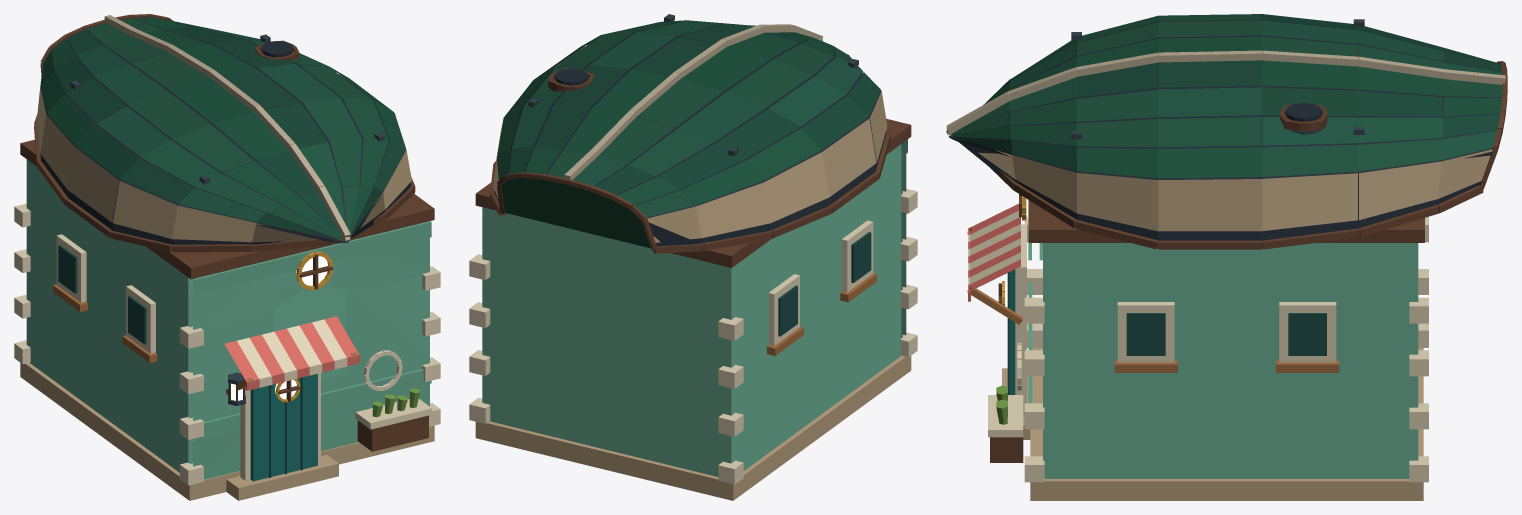
File: net-loft-medium-mint.glb
3 renders of one model, left to right at view 1: azimuth 30°, elevation 25°; view 2: azimuth 150°, elevation 25°; view 3: azimuth 270°, elevation 25°, orthographic. The views are drawn at different scales.
Parts seen in each view (by area): view 1: net-loft-medium-mint; view 2: net-loft-medium-mint; view 3: net-loft-medium-mint.
Boxes of the visible parts, x1,y1,x2,y2 form: net-loft-medium-mint: (14,14,440,500); net-loft-medium-mint: (469,14,917,500); net-loft-medium-mint: (946,14,1507,500).
Bounding box in the file's own units: 4.37 × 4.63 × 6.21.
